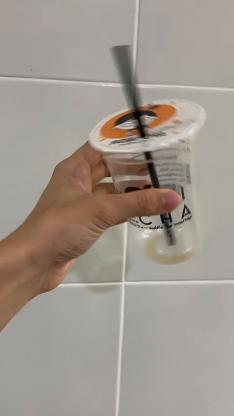Plastic Cup: (89, 99, 205, 269)
